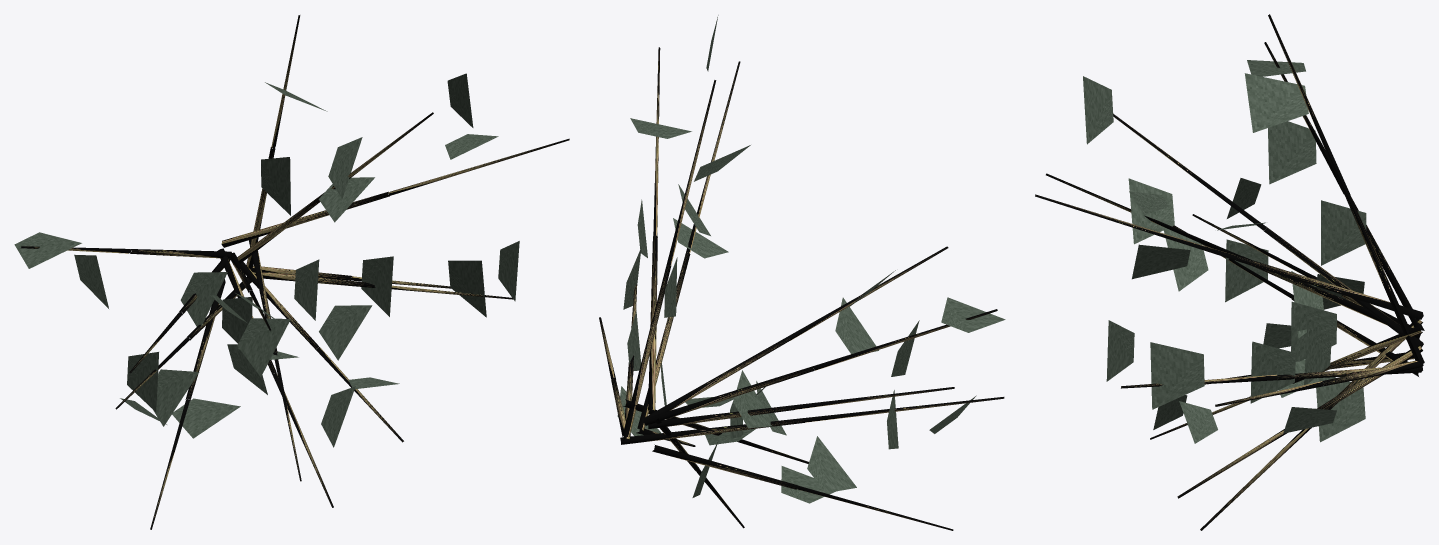
The model's file is PZ_ALP_LOD1_13_Willow_Shrub.glb.
The picture shows the model from 3 angles, left to right: view 1: azimuth 30°, elevation 25°; view 2: azimuth 150°, elevation 25°; view 3: azimuth 270°, elevation 25°; orthographic projection. The views are drawn at different scales.
Visible parts, largest first — view 1: Leaves_AlphaMaskedCards, WoodyBranchNetwork; view 2: WoodyBranchNetwork, Leaves_AlphaMaskedCards; view 3: Leaves_AlphaMaskedCards, WoodyBranchNetwork.
Part boxes in pixels (left/top/right/bottom): Leaves_AlphaMaskedCards: left=14, top=73, right=519, bottom=447; WoodyBranchNetwork: left=21, top=15, right=569, bottom=529; WoodyBranchNetwork: left=599, top=47, right=1004, bottom=530; Leaves_AlphaMaskedCards: left=617, top=15, right=1005, bottom=503; Leaves_AlphaMaskedCards: left=1083, top=60, right=1366, bottom=443; WoodyBranchNetwork: left=1035, top=14, right=1424, bottom=530.
Size of the model in its own units: 1.2 by 1.22 by 0.8354.
Materials: 2 (2 with a texture image).
